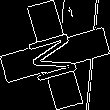M_E: (24, 26, 86, 84)
